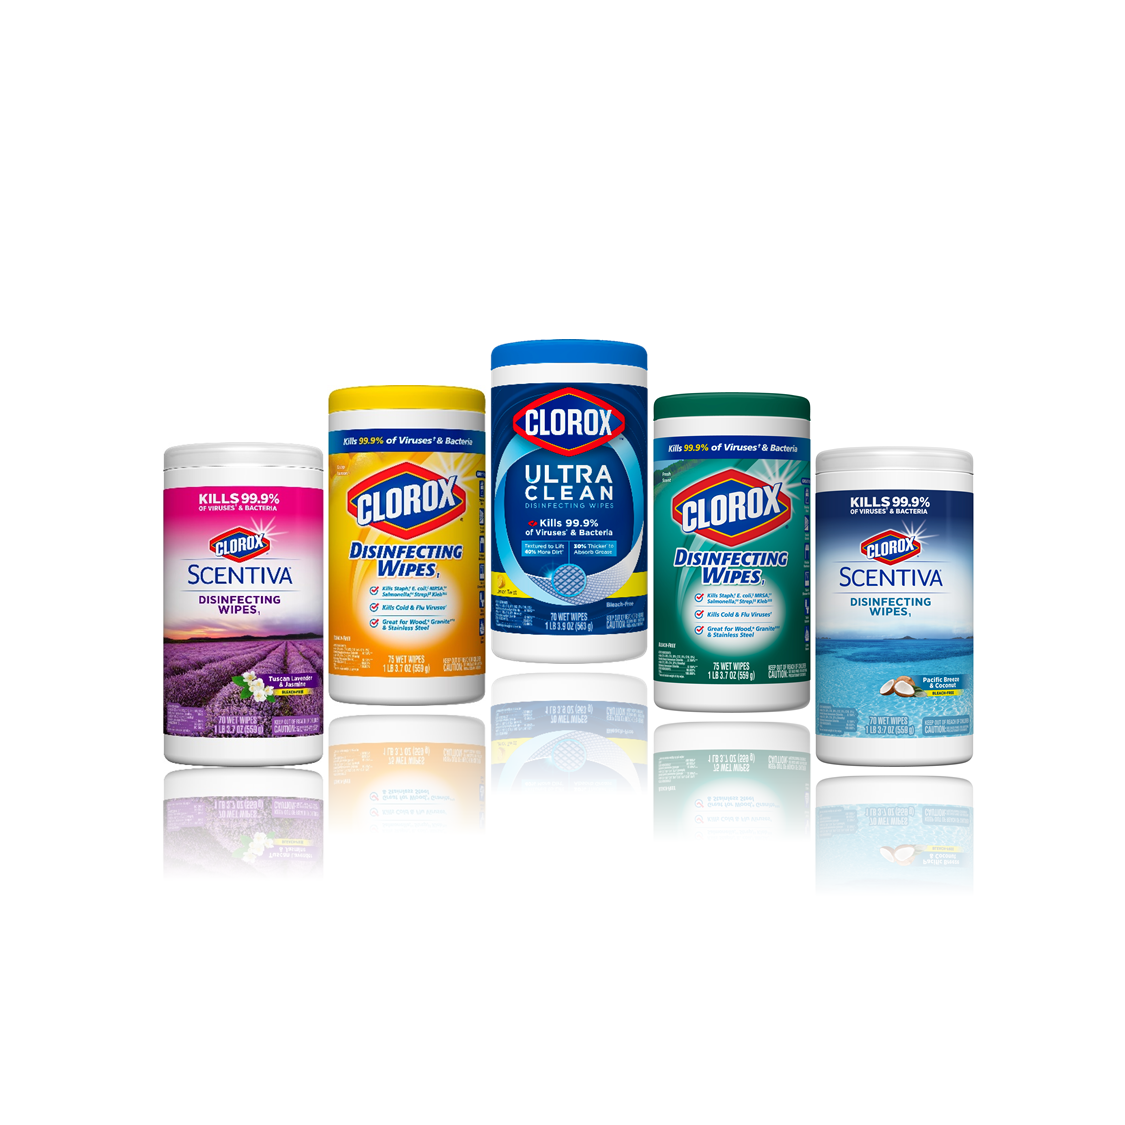Wipes: (154, 437, 330, 773), (315, 379, 493, 707), (484, 330, 652, 670), (812, 437, 980, 773), (648, 377, 813, 717)
